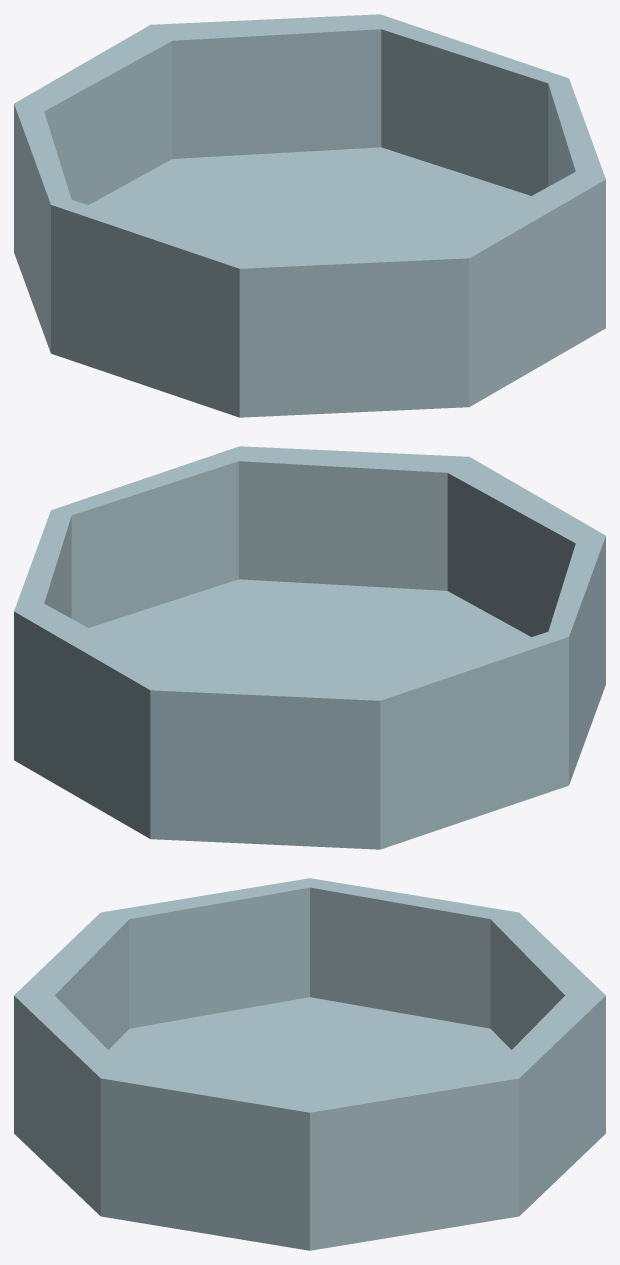
Rendered from Petrischaaltje.fbx.
3 renders of one model, top to bottom at view 1: azimuth 30°, elevation 25°; view 2: azimuth 150°, elevation 25°; view 3: azimuth 270°, elevation 25°, orthographic. The views are drawn at different scales.
Visible parts, largest first — view 1: Petri_Schaaltje; view 2: Petri_Schaaltje; view 3: Petri_Schaaltje.
Part boxes in pixels (x1=…): Petri_Schaaltje: x1=14, y1=14, x2=605, y2=417; Petri_Schaaltje: x1=14, y1=446, x2=605, y2=849; Petri_Schaaltje: x1=14, y1=878, x2=605, y2=1250.
Size of the model in its own units: 5.49 by 1.51 by 5.86.
1 material, 1 textured.
